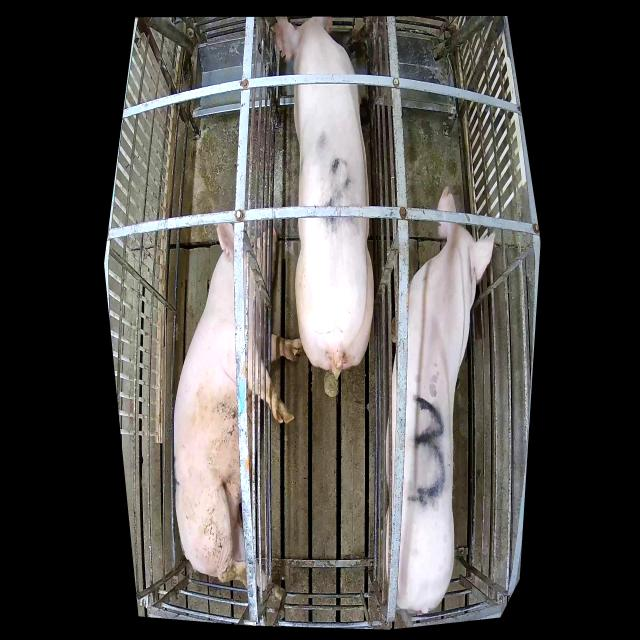pig: (378, 187, 494, 613), (174, 223, 302, 590), (272, 18, 374, 379)
